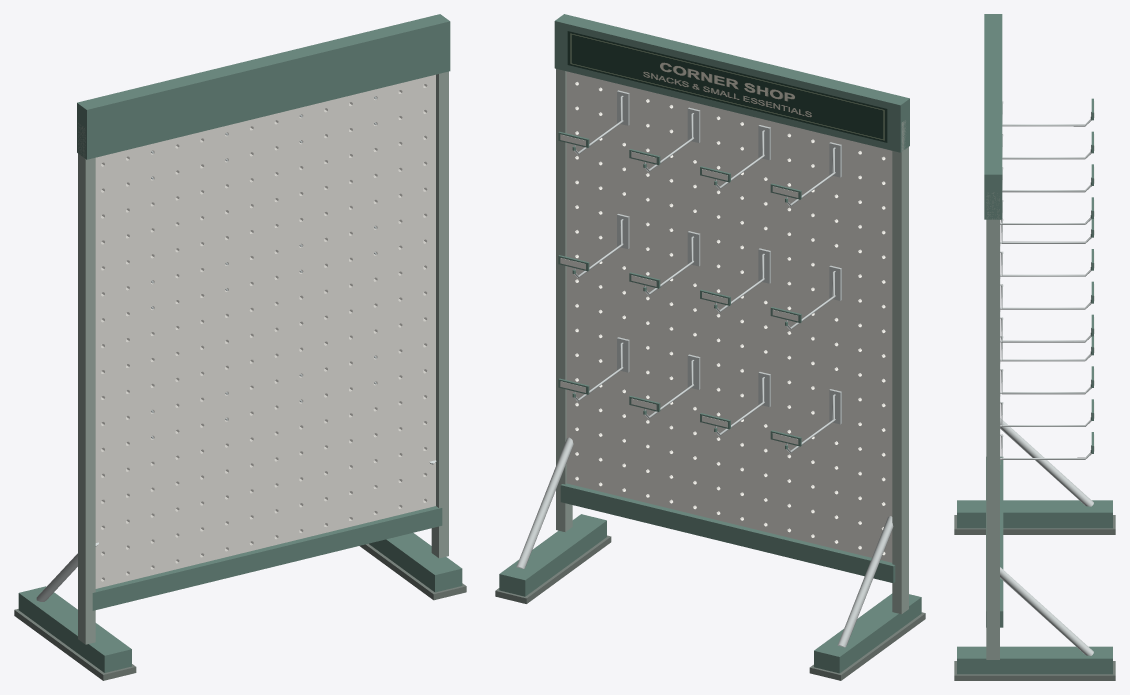
The model's file is pegboard-snacks.glb.
The picture shows the model from 3 angles, left to right: view 1: azimuth 30°, elevation 25°; view 2: azimuth 150°, elevation 25°; view 3: azimuth 270°, elevation 25°; orthographic projection. The views are drawn at different scales.
Parts seen in each view (by area): view 1: library-equipment-pegboard-snacks-product-equipment-cream, library-equipment-pegboard-snacks-product-equipment-forest, library-equipment-pegboard-snacks-product-equipment-sage, library-equipment-pegboard-snacks-product-equipment-rubber, library-equipment-pegboard-snacks-product-equipment-steel; view 2: library-equipment-pegboard-snacks-product-equipment-cream, library-equipment-pegboard-snacks-product-equipment-forest, library-equipment-pegboard-snacks-product-equipment-sage, library-equipment-pegboard-snacks-pegboard-snacks-snack-sign, library-equipment-pegboard-snacks-product-equipment-steel, library-equipment-pegboard-snacks-product-equipment-rubber; view 3: library-equipment-pegboard-snacks-product-equipment-forest, library-equipment-pegboard-snacks-product-equipment-sage, library-equipment-pegboard-snacks-product-equipment-steel, library-equipment-pegboard-snacks-product-equipment-rubber.
Boxes of the visible parts, x1,y1,x2,y2 form: library-equipment-pegboard-snacks-product-equipment-cream: (95,74,435,588); library-equipment-pegboard-snacks-product-equipment-forest: (18,14,462,672); library-equipment-pegboard-snacks-product-equipment-sage: (78,71,448,644); library-equipment-pegboard-snacks-product-equipment-rubber: (14,543,466,680); library-equipment-pegboard-snacks-product-equipment-steel: (36,96,436,601); library-equipment-pegboard-snacks-product-equipment-cream: (560,71,892,562); library-equipment-pegboard-snacks-product-equipment-forest: (499,14,921,673); library-equipment-pegboard-snacks-product-equipment-sage: (556,69,908,614); library-equipment-pegboard-snacks-pegboard-snacks-snack-sign: (567,31,887,142); library-equipment-pegboard-snacks-product-equipment-steel: (516,90,893,647); library-equipment-pegboard-snacks-product-equipment-rubber: (495,535,925,680); library-equipment-pegboard-snacks-product-equipment-forest: (957,14,1112,674); library-equipment-pegboard-snacks-product-equipment-sage: (986,192,999,659); library-equipment-pegboard-snacks-product-equipment-steel: (1000,101,1093,655); library-equipment-pegboard-snacks-product-equipment-rubber: (954,515,1115,680).
Size of the model in its own units: 1.32 by 1.94 by 0.56.
6 materials, 1 textured.
